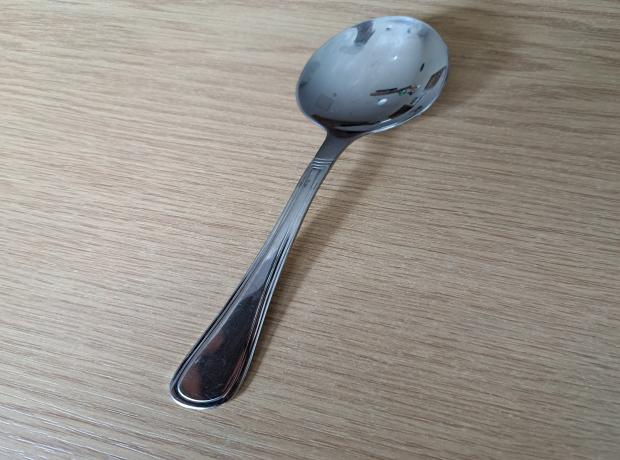metal: (165, 14, 456, 412)
